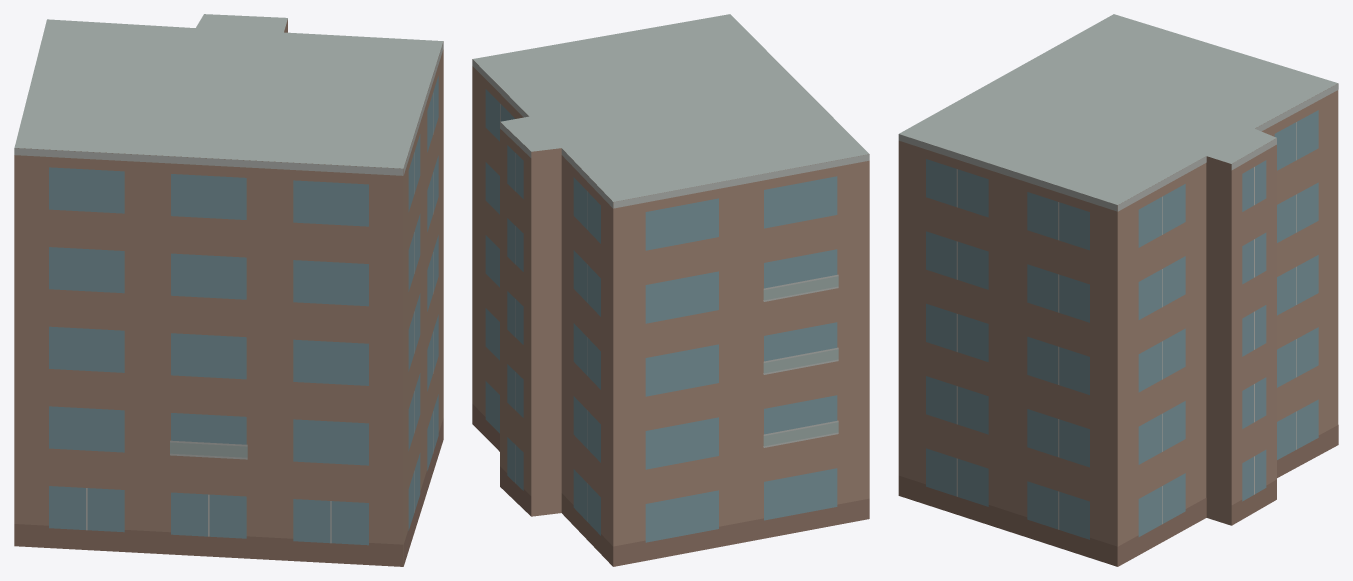
File: survey-upis-32633196.glb
3 views of the same model, side by side, from view 1: azimuth 30°, elevation 25°; view 2: azimuth 150°, elevation 25°; view 3: azimuth 270°, elevation 25° (orthographic). The views are drawn at different scales.
Visible parts, largest first — view 1: survey-upis-32633196.tmp; view 2: survey-upis-32633196.tmp; view 3: survey-upis-32633196.tmp.
Boxes of the visible parts, x1=… form: survey-upis-32633196.tmp: x1=14, y1=14, x2=443, y2=566; survey-upis-32633196.tmp: x1=472, y1=14, x2=869, y2=566; survey-upis-32633196.tmp: x1=898, y1=14, x2=1338, y2=566.
Size of the model in its own units: 15.14 by 13.35 by 14.72.
